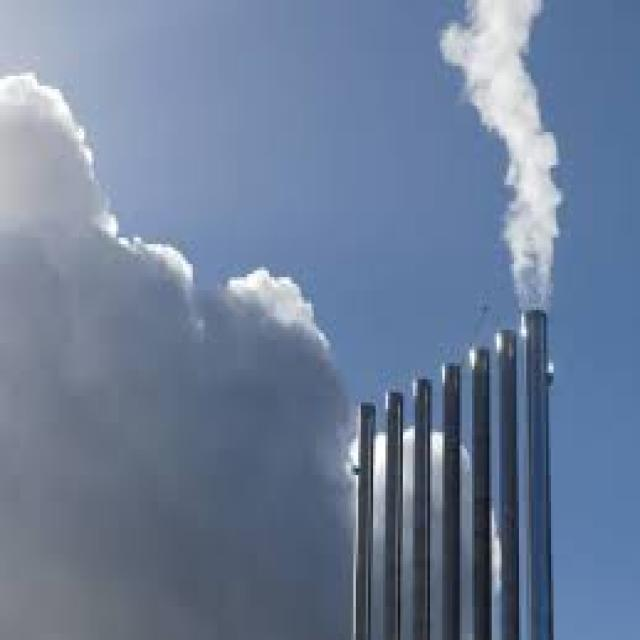Smoke: (437, 0, 566, 316)
